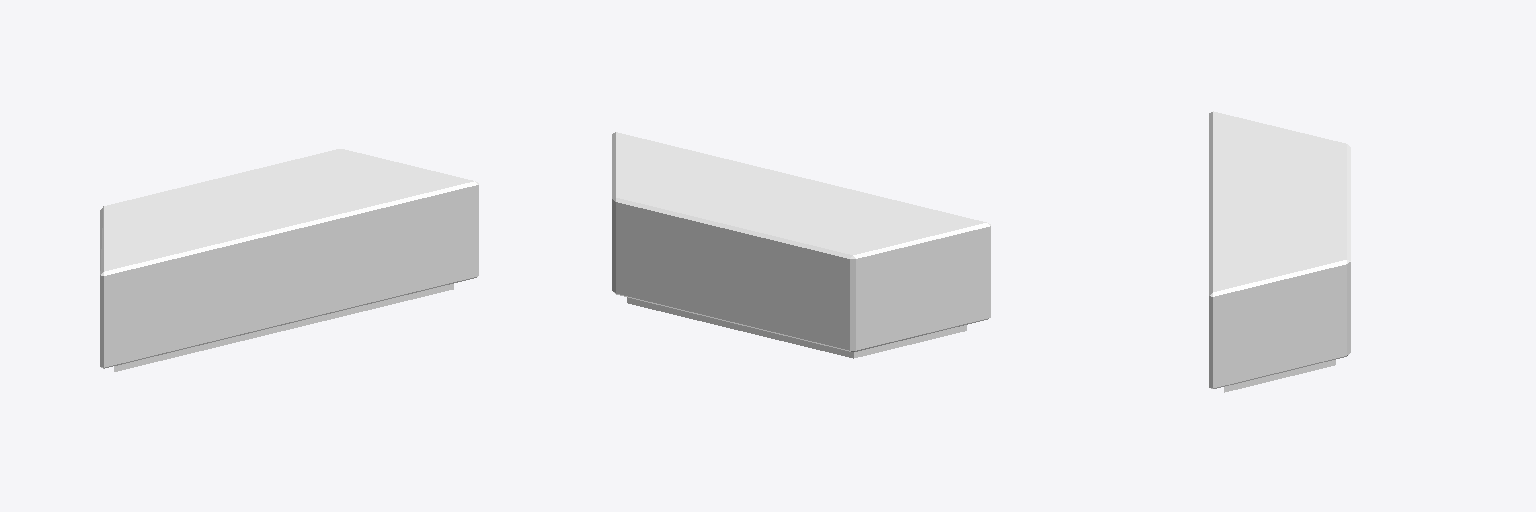
File: Chair_2.obj
The picture shows the model from 3 angles: view 1: azimuth 30°, elevation 25°; view 2: azimuth 150°, elevation 25°; view 3: azimuth 270°, elevation 25°; orthographic projection.
Visible parts, largest first — view 1: Mesh177_Group152_Component_4_2_Component_1_2_Model.1; view 2: Mesh177_Group152_Component_4_2_Component_1_2_Model.1; view 3: Mesh177_Group152_Component_4_2_Component_1_2_Model.1.
Boxes of the visible parts, box(x1,y1,x2,y2) form: Mesh177_Group152_Component_4_2_Component_1_2_Model.1: box(100, 149, 478, 371); Mesh177_Group152_Component_4_2_Component_1_2_Model.1: box(612, 132, 990, 358); Mesh177_Group152_Component_4_2_Component_1_2_Model.1: box(1209, 111, 1350, 392).
Size of the model in its own units: 61.9 by 16.92 by 20.